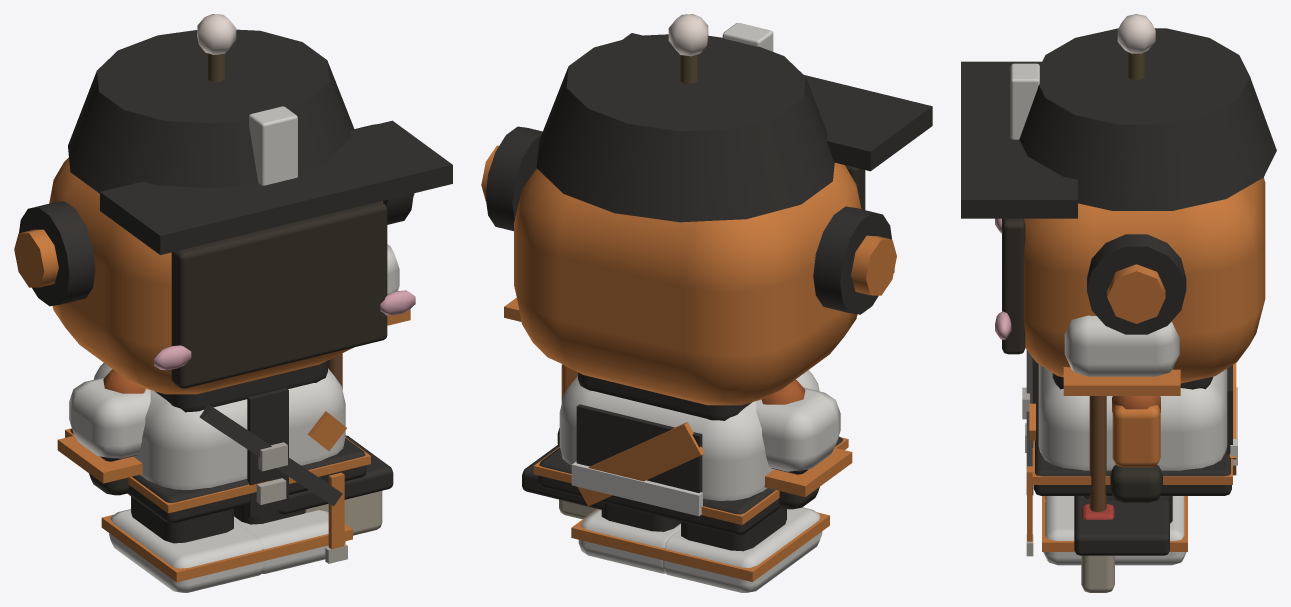
Rendered from caretaker-v1-rigged-meshopt.glb.
3 views of the same model, side by side, from view 1: azimuth 30°, elevation 25°; view 2: azimuth 150°, elevation 25°; view 3: azimuth 270°, elevation 25° (orthographic). The views are drawn at different scales.
Visible parts, largest first — view 1: head-mesh, face-mesh, body-mesh, legR-mesh, armR-mesh, armL-mesh, legL-mesh, antenna-mesh; view 2: head-mesh, body-mesh, legR-mesh, armR-mesh, legL-mesh, armL-mesh, antenna-mesh; view 3: head-mesh, armL-mesh, body-mesh, legL-mesh, face-mesh, antenna-mesh.
Boxes of the visible parts, x1,y1,x2,y2 form: head-mesh: [14, 29, 452, 394]; face-mesh: [171, 201, 387, 388]; body-mesh: [65, 360, 370, 563]; legR-mesh: [101, 496, 275, 592]; armR-mesh: [57, 369, 150, 495]; armL-mesh: [278, 244, 410, 535]; legL-mesh: [234, 505, 352, 573]; antenna-mesh: [197, 14, 236, 81]; head-mesh: [481, 22, 932, 405]; body-mesh: [533, 370, 848, 535]; legR-mesh: [650, 507, 829, 592]; armR-mesh: [756, 379, 852, 509]; legL-mesh: [571, 503, 680, 573]; armL-mesh: [504, 297, 604, 519]; antenna-mesh: [668, 14, 708, 83]; head-mesh: [961, 28, 1276, 383]; armL-mesh: [1063, 315, 1180, 592]; body-mesh: [1022, 350, 1237, 556]; legL-mesh: [1042, 496, 1187, 565]; face-mesh: [1002, 218, 1025, 354]; antenna-mesh: [1117, 14, 1155, 80].
Bounding box in the file's own units: 0.8735 × 1.18 × 0.6589.
